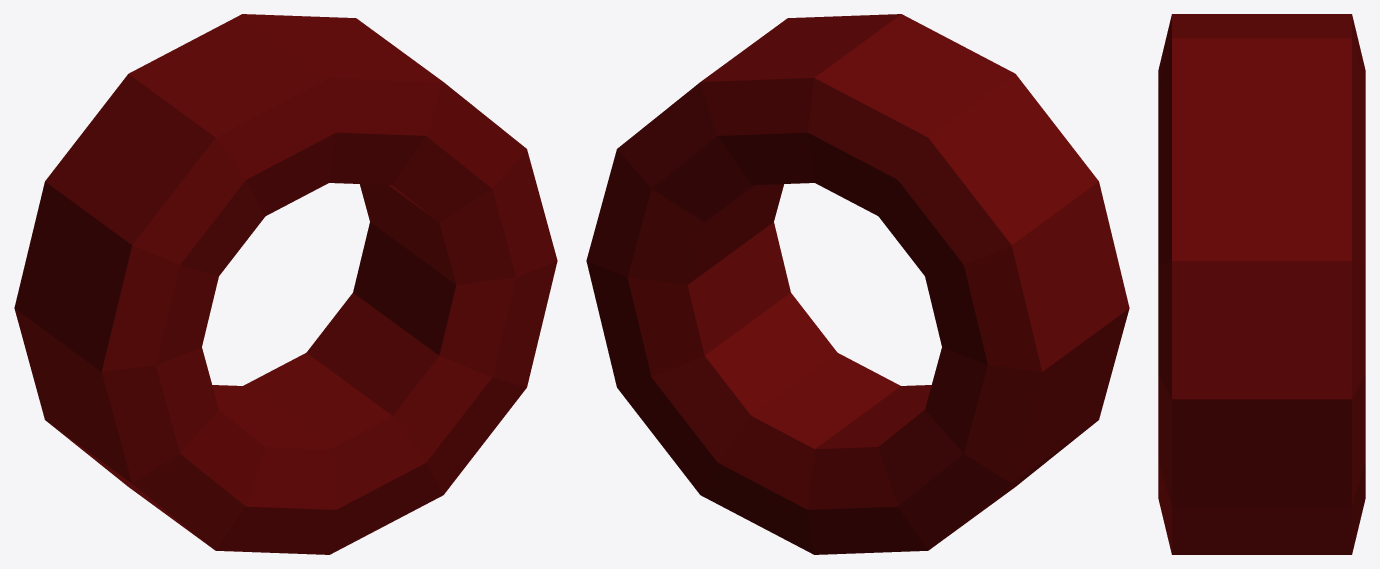
Rendered from Wheel01.obj.
3 views of the same model, side by side, from view 1: azimuth 30°, elevation 25°; view 2: azimuth 150°, elevation 25°; view 3: azimuth 270°, elevation 25° (orthographic). The views are drawn at different scales.
Visible parts, largest first — view 1: Wheel01_Cylinder; view 2: Wheel01_Cylinder; view 3: Wheel01_Cylinder.
Part boxes in pixels (x1,y1,x2,y2): Wheel01_Cylinder: [14, 14, 557, 554]; Wheel01_Cylinder: [586, 14, 1129, 554]; Wheel01_Cylinder: [1158, 14, 1365, 554].
Bounding box in the file's own units: 6.41 × 6.41 × 2.45.
